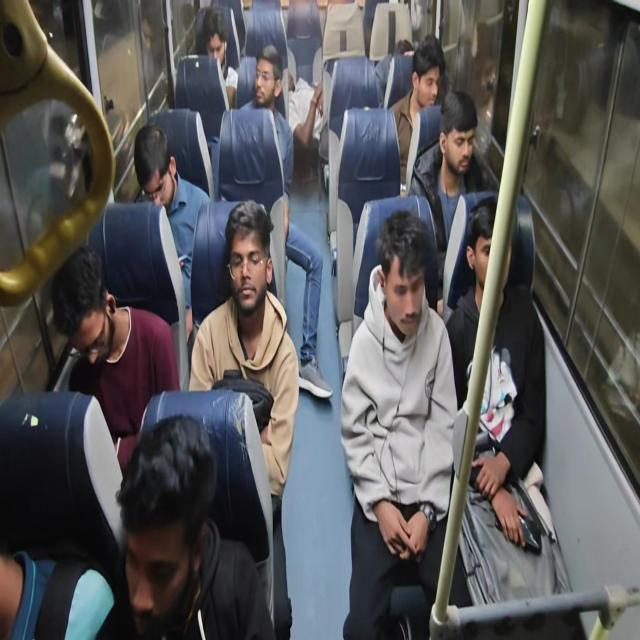person: (98, 422, 208, 640), (0, 457, 67, 640), (129, 110, 189, 270), (204, 222, 282, 344), (55, 220, 104, 397), (470, 210, 520, 308), (381, 224, 424, 321), (442, 88, 483, 186), (252, 47, 286, 145), (417, 46, 448, 124), (202, 14, 232, 78), (391, 30, 426, 76)
